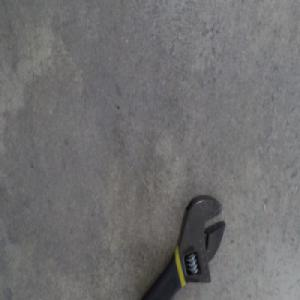AdjustableWrench: (139, 194, 226, 299)
